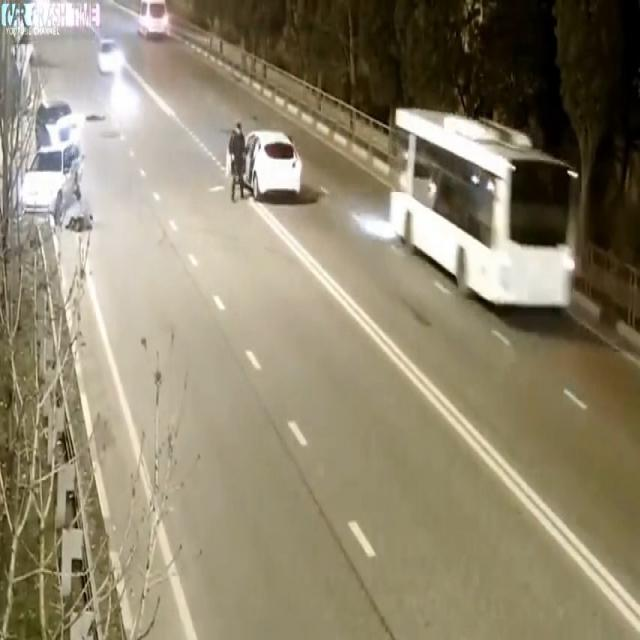Accident: (10, 73, 103, 254)
